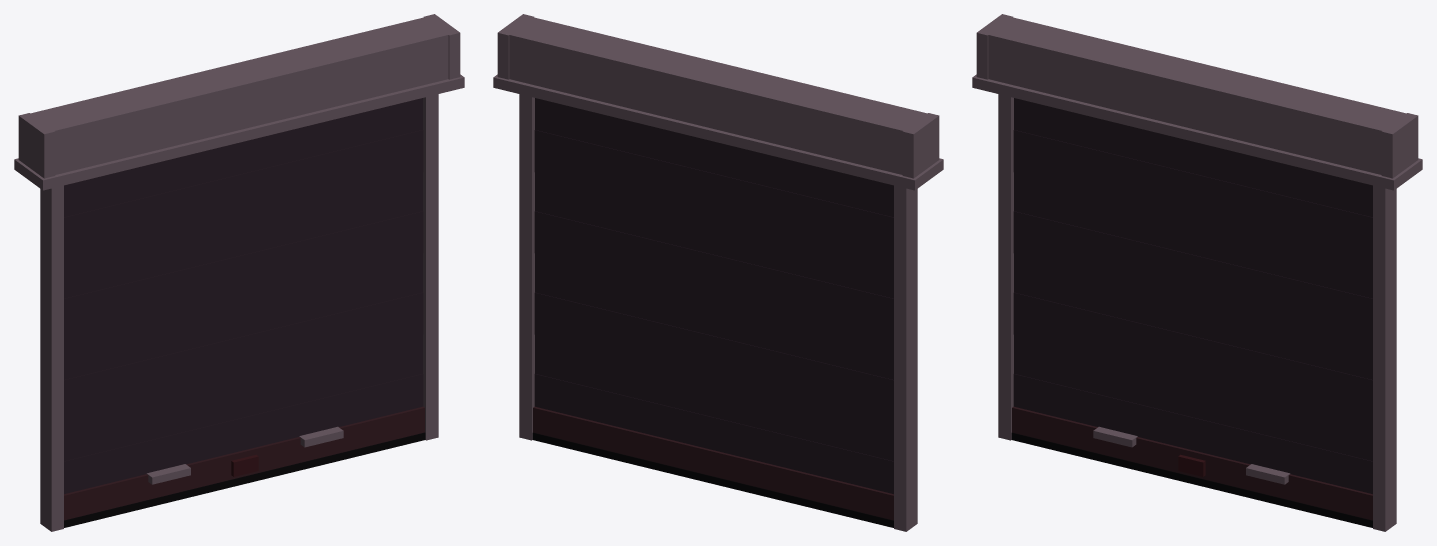
Rendered from SM_Shutter_Corrugated.obj.
The picture shows the model from 3 angles, left to right: view 1: azimuth 30°, elevation 25°; view 2: azimuth 150°, elevation 25°; view 3: azimuth 330°, elevation 25°; orthographic projection.
Parts seen in each view (by area): view 1: hood, slat_2, slat_4, slat_6, slat_5, slat_3, slat_1, slat_0, slat_7, bottom_bar, rail_l, hood_lip (+6 smaller); view 2: hood, slat_2, slat_4, slat_6, slat_5, slat_3, slat_1, slat_0, slat_7, bottom_bar, rail_l, hood_lip (+4 smaller); view 3: hood, slat_2, slat_4, slat_6, slat_5, slat_3, slat_1, slat_0, slat_7, bottom_bar, rail_r, hood_lip (+6 smaller).
Part boxes in pixels (x1,y1,x2,y2): hood: [26, 16, 452, 174]; slat_2: [64, 292, 423, 422]; slat_4: [64, 211, 423, 340]; slat_6: [64, 130, 423, 259]; slat_5: [64, 172, 422, 298]; slat_3: [64, 253, 422, 379]; slat_1: [64, 335, 422, 461]; slat_0: [64, 374, 423, 494]; slat_7: [64, 98, 422, 217]; bottom_bar: [64, 406, 424, 520]; rail_l: [40, 185, 63, 531]; hood_lip: [14, 74, 464, 190]; hood: [505, 16, 931, 174]; slat_2: [534, 292, 893, 422]; slat_4: [534, 211, 893, 340]; slat_6: [534, 130, 893, 259]; slat_5: [535, 172, 893, 298]; slat_3: [535, 253, 893, 379]; slat_1: [535, 335, 893, 461]; slat_0: [534, 374, 893, 494]; slat_7: [535, 98, 893, 217]; bottom_bar: [533, 406, 893, 520]; rail_l: [894, 185, 917, 531]; hood_lip: [493, 74, 943, 190]; hood: [984, 16, 1410, 174]; slat_2: [1013, 292, 1372, 422]; slat_4: [1013, 211, 1372, 340]; slat_6: [1013, 130, 1372, 259]; slat_5: [1014, 172, 1372, 298]; slat_3: [1014, 253, 1372, 379]; slat_1: [1014, 335, 1372, 461]; slat_0: [1013, 374, 1372, 494]; slat_7: [1014, 98, 1372, 217]; bottom_bar: [1012, 406, 1372, 520]; rail_r: [1373, 185, 1396, 531]; hood_lip: [972, 74, 1422, 190].
Bounding box in the file's own units: 3.04 × 2.8 × 0.36.
